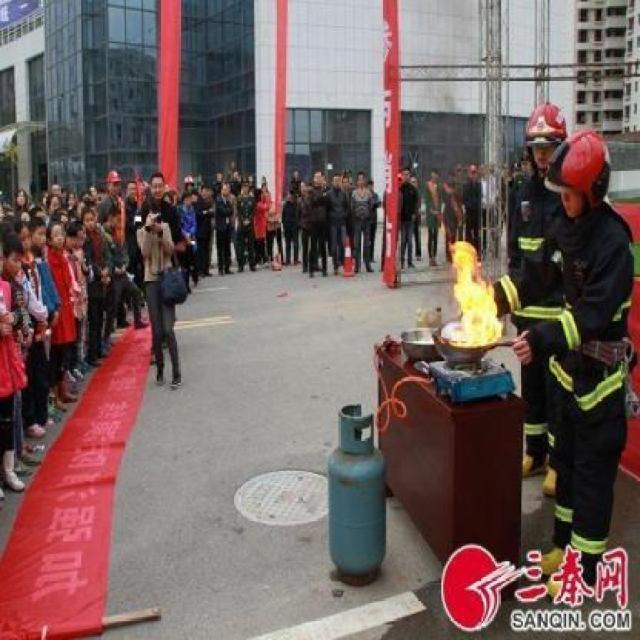Fire: (445, 238, 503, 350)
